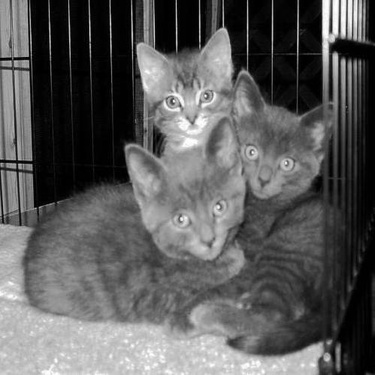cat: (23, 114, 249, 324), (190, 71, 356, 356), (136, 26, 237, 159)
